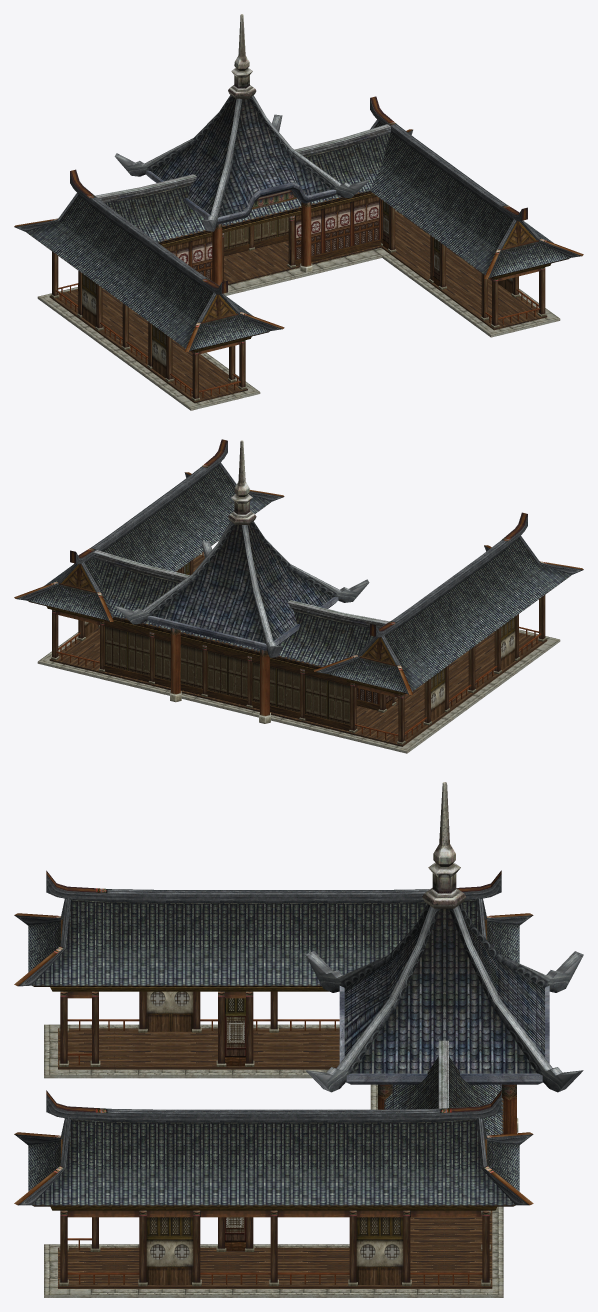
Rendered from milgyo_building04.fbx.
The picture shows the model from 3 angles, top to bottom: view 1: azimuth 30°, elevation 25°; view 2: azimuth 150°, elevation 25°; view 3: azimuth 270°, elevation 25°; orthographic projection. The views are drawn at different scales.
Visible parts, largest first — view 1: milgyo_building04; view 2: milgyo_building04; view 3: milgyo_building04.
Boxes of the visible parts, x1,y1,x2,y2 form: milgyo_building04: (14,14,583,410); milgyo_building04: (14,439,583,753); milgyo_building04: (14,782,583,1297).
Size of the model in its own units: 69.19 by 41.96 by 57.02.
